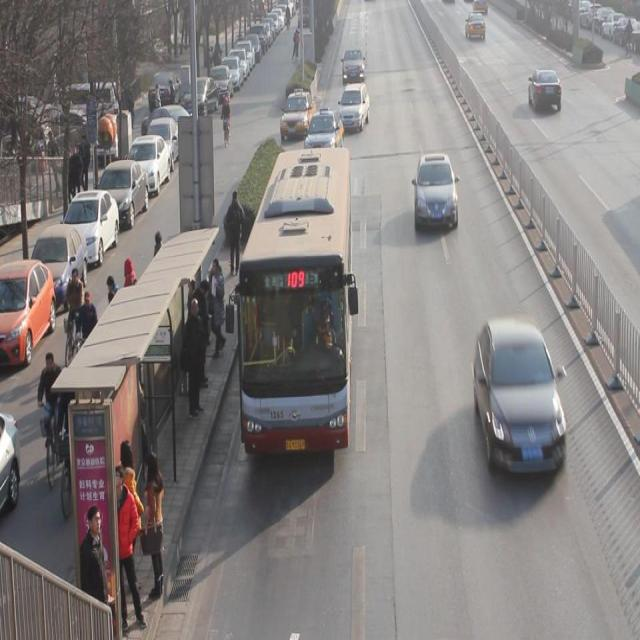car: (474, 318, 567, 478), (415, 155, 458, 230), (280, 90, 316, 142), (304, 106, 345, 151), (339, 84, 370, 134), (528, 69, 562, 111), (342, 48, 366, 82), (465, 10, 486, 40)
van: (235, 151, 348, 448)
